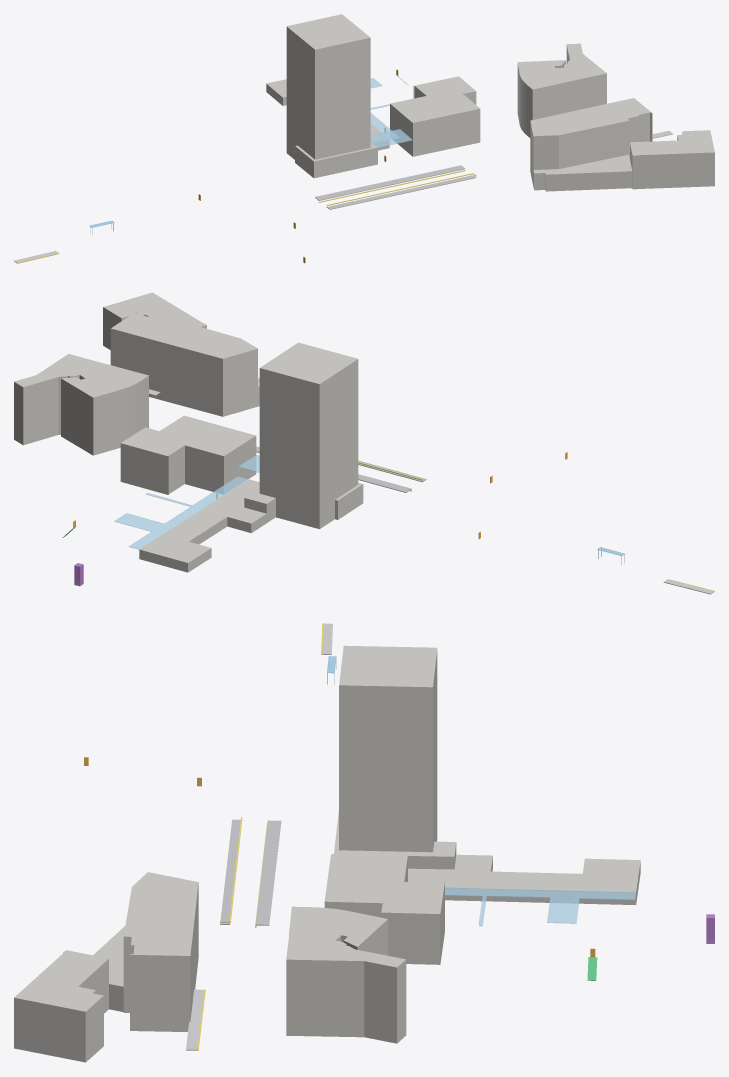
The model's file is 8579897-bern-kocherpark.glb.
3 renders of one model, top to bottom at view 1: azimuth 30°, elevation 25°; view 2: azimuth 150°, elevation 25°; view 3: azimuth 270°, elevation 25°, orthographic. The views are drawn at different scales.
Visible parts, largest first — view 1: building_part@x, platform_surface@0, roof@0, boarding_edge@0; view 2: building_part@x, roof@0, platform_surface@0; view 3: building_part@x, platform_surface@0, roof@0, platform_body@0.
Boxes of the visible parts, left/top/right/bottom form: building_part@x: left=266, top=14, right=714, bottom=191; platform_surface@0: left=315, top=165, right=476, bottom=209; roof@0: left=370, top=78, right=412, bottom=147; boarding_edge@0: left=17, top=130, right=668, bottom=263; building_part@x: left=14, top=292, right=363, bottom=572; roof@0: left=114, top=455, right=259, bottom=549; platform_surface@0: left=256, top=446, right=426, bottom=492; building_part@x: left=14, top=645, right=640, bottom=1062; platform_surface@0: left=220, top=819, right=281, bottom=925; roof@0: left=445, top=887, right=635, bottom=926; platform_body@0: left=186, top=623, right=332, bottom=1050.
Size of the model in its own units: 266 by 57.12 by 175.
